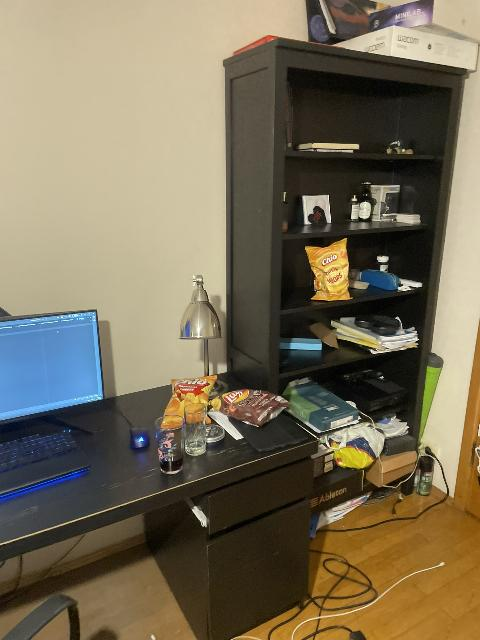Chio Cascaval 125g: (163, 376, 218, 427)
Chio Hula Hoops Cheese 70g: (304, 238, 348, 301)
Lays Beef Grilled Ribs 125g: (214, 388, 290, 427)
